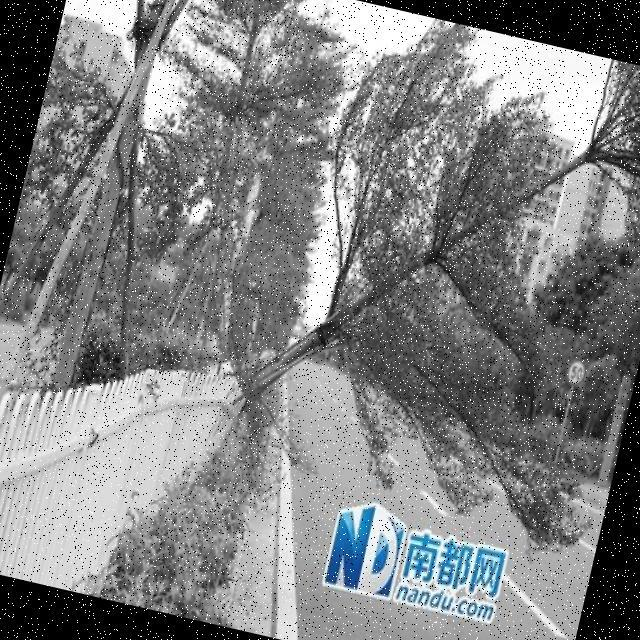fallen_object: (226, 0, 640, 472)
